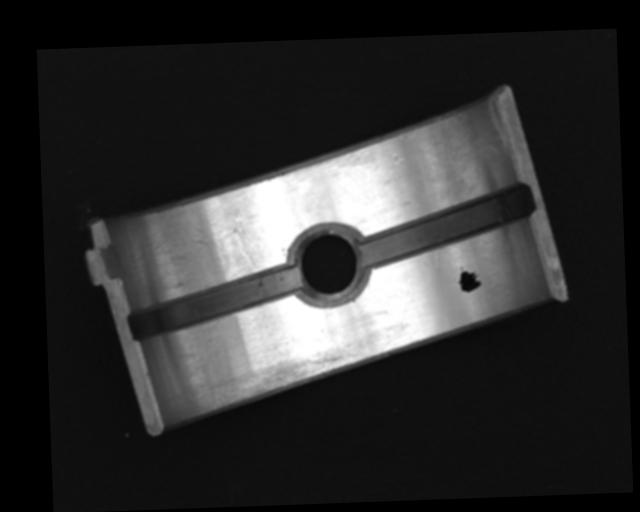blot: (456, 265, 483, 294)
bruise: (191, 226, 214, 247), (390, 150, 403, 166)
gap: (356, 184, 533, 269), (124, 265, 302, 340)
hole: (287, 221, 369, 310)
nick: (231, 212, 258, 273)
scratch: (206, 346, 362, 410)
